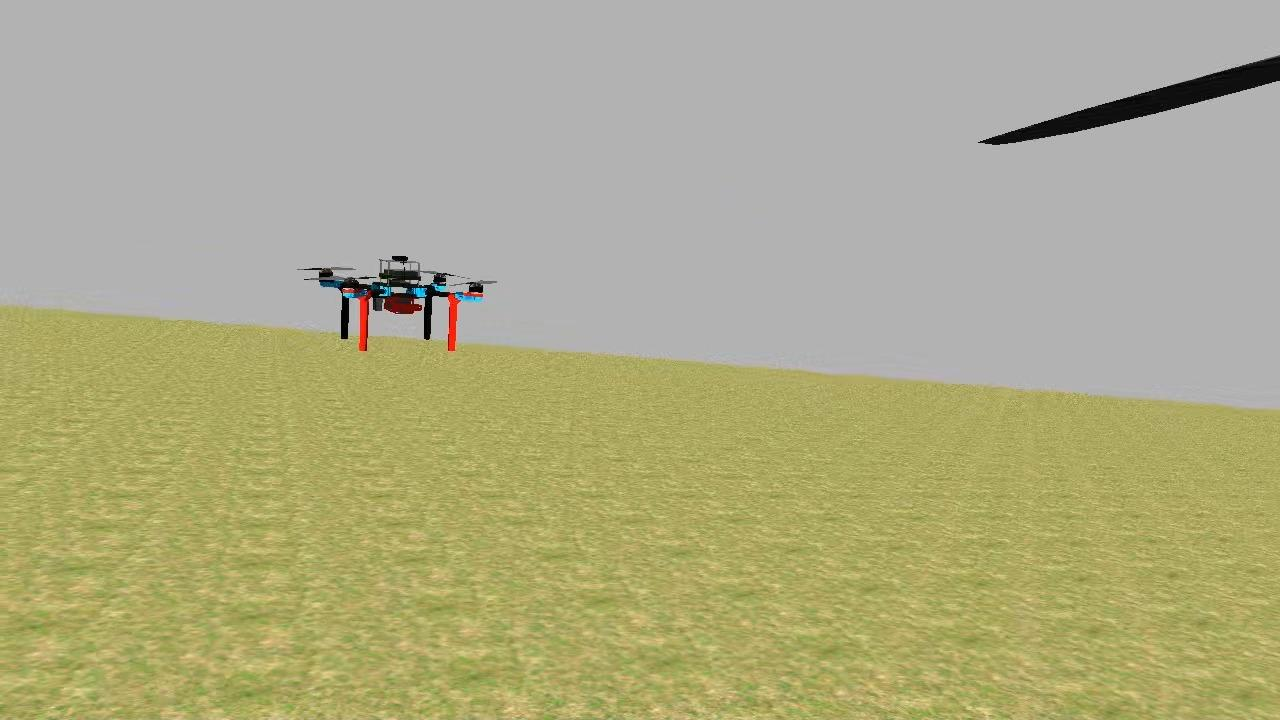UAV: (309, 247, 494, 360)
